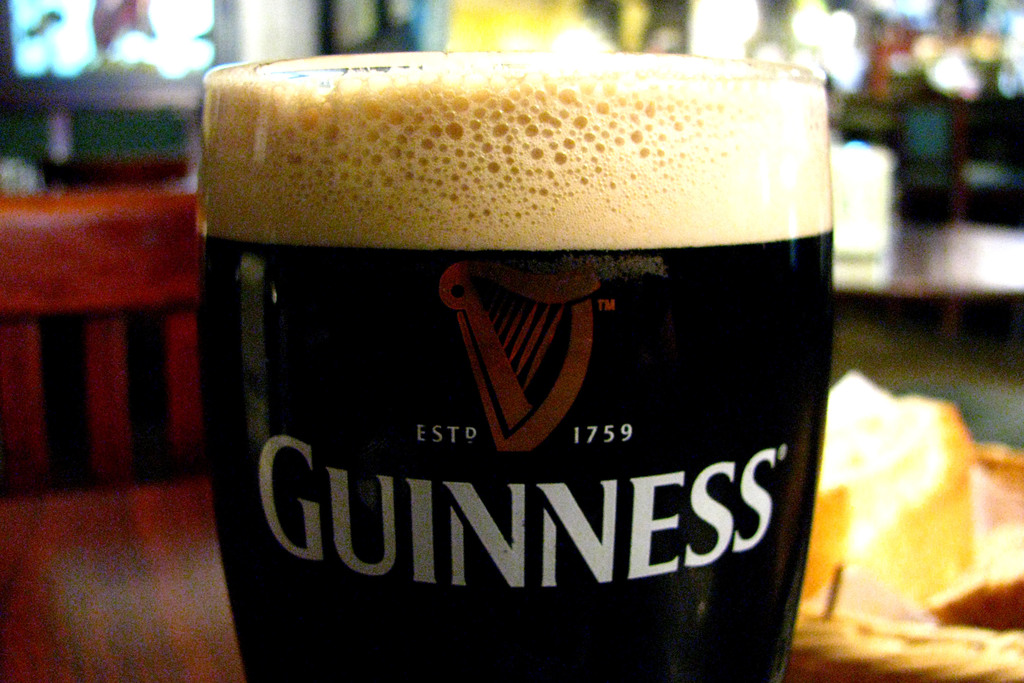Beer: (197, 49, 835, 682)
